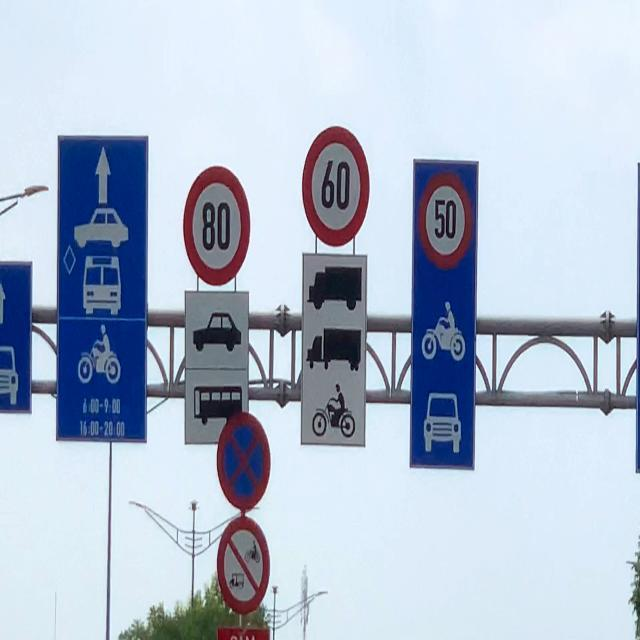P-127: (300, 124, 370, 246), (184, 164, 250, 284)
P-130: (218, 412, 270, 509)
